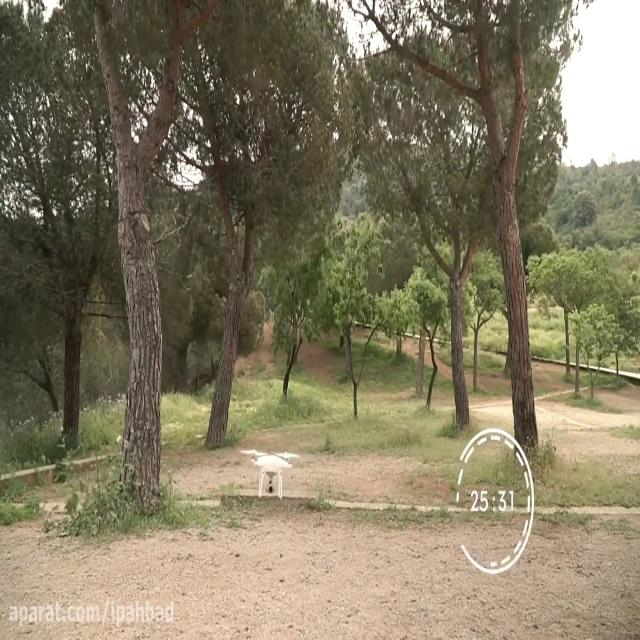drone: (239, 445, 301, 503)
